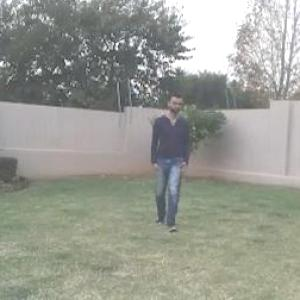follow: (146, 86, 190, 234)
